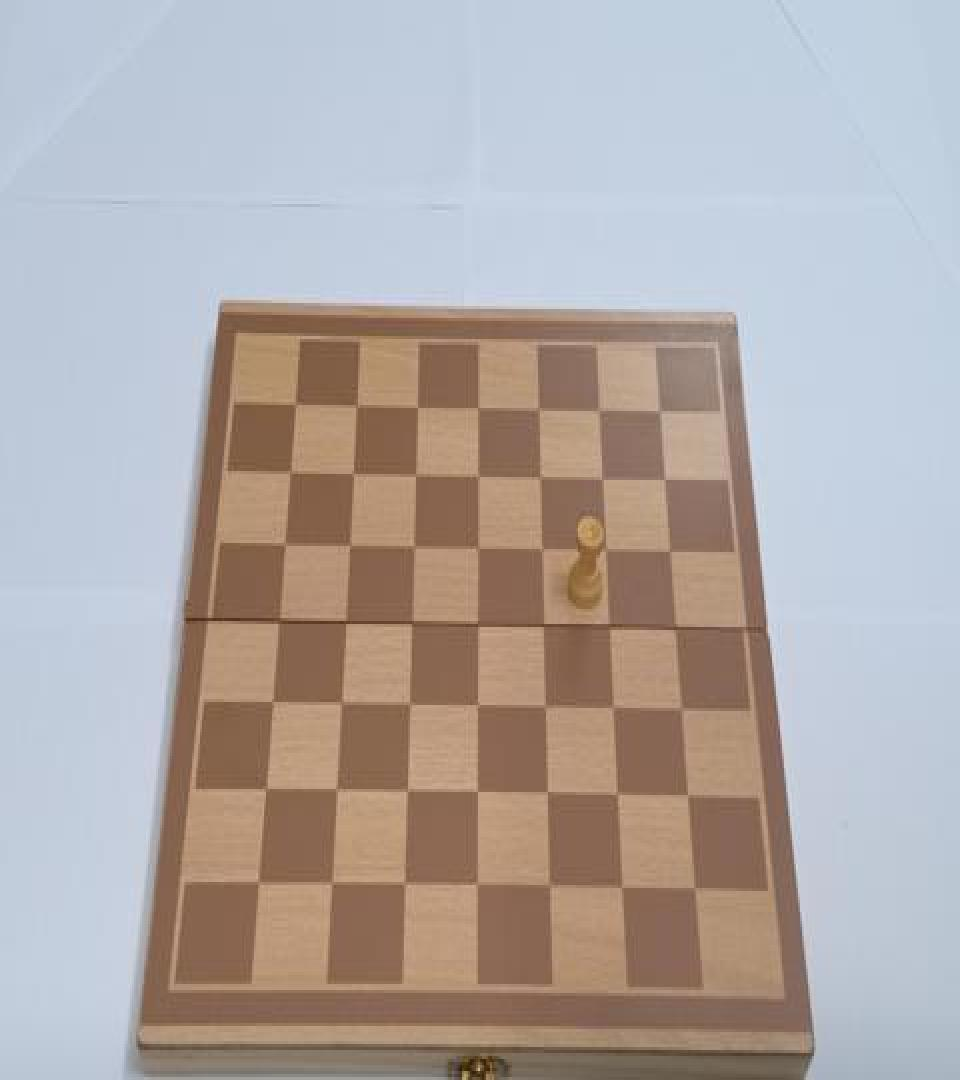xcorner: (282, 460, 300, 488), (409, 394, 427, 422), (537, 694, 555, 722), (593, 466, 611, 494), (604, 694, 622, 722), (655, 466, 673, 494), (288, 393, 306, 420), (276, 532, 294, 559), (270, 609, 288, 636), (264, 690, 282, 717), (257, 777, 275, 804), (250, 868, 268, 895), (348, 393, 366, 420), (345, 462, 363, 489), (341, 534, 359, 561), (337, 610, 355, 637), (328, 778, 346, 805), (323, 870, 341, 897), (403, 610, 421, 637), (401, 693, 419, 720), (398, 778, 416, 805), (469, 396, 487, 423), (469, 612, 487, 639), (469, 693, 487, 720), (468, 780, 486, 807), (530, 396, 548, 423), (531, 465, 549, 492), (533, 537, 551, 564), (538, 780, 556, 807), (541, 873, 559, 900), (590, 397, 608, 424), (597, 538, 615, 565), (613, 873, 631, 900), (651, 399, 669, 426), (661, 538, 679, 565), (666, 615, 684, 642), (672, 696, 690, 723), (678, 783, 696, 810), (685, 874, 703, 901), (332, 692, 350, 718), (407, 464, 425, 490), (405, 536, 423, 562), (396, 872, 414, 898), (469, 464, 487, 490), (469, 536, 487, 562), (468, 872, 486, 898), (535, 614, 553, 640), (601, 614, 619, 640), (609, 782, 627, 808)
